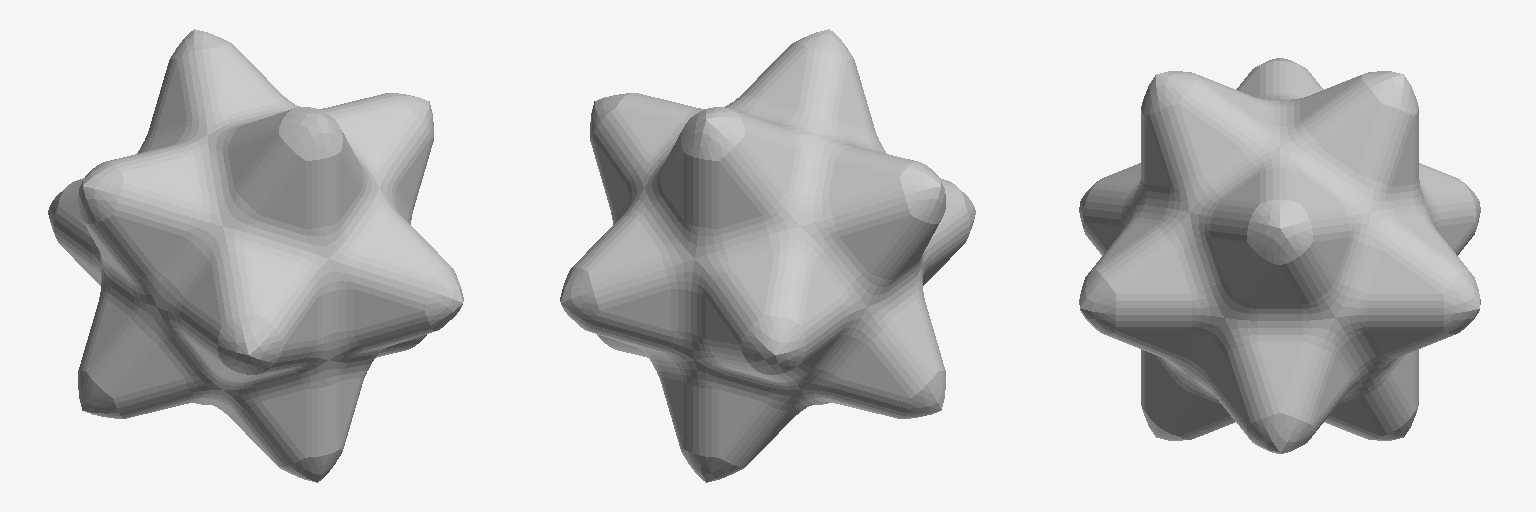
The model's file is star.obj.
The picture shows the model from 3 angles: view 1: azimuth 30°, elevation 25°; view 2: azimuth 150°, elevation 25°; view 3: azimuth 270°, elevation 25°; orthographic projection.
Parts seen in each view (by area): view 1: Small_stellated_dodecahedron; view 2: Small_stellated_dodecahedron; view 3: Small_stellated_dodecahedron.
Boxes of the visible parts, box(x1,y1,x2,y2) form: Small_stellated_dodecahedron: box(48, 29, 463, 482); Small_stellated_dodecahedron: box(560, 29, 975, 482); Small_stellated_dodecahedron: box(1079, 58, 1480, 453).
Size of the model in its own units: 16.97 by 16.97 by 16.97.